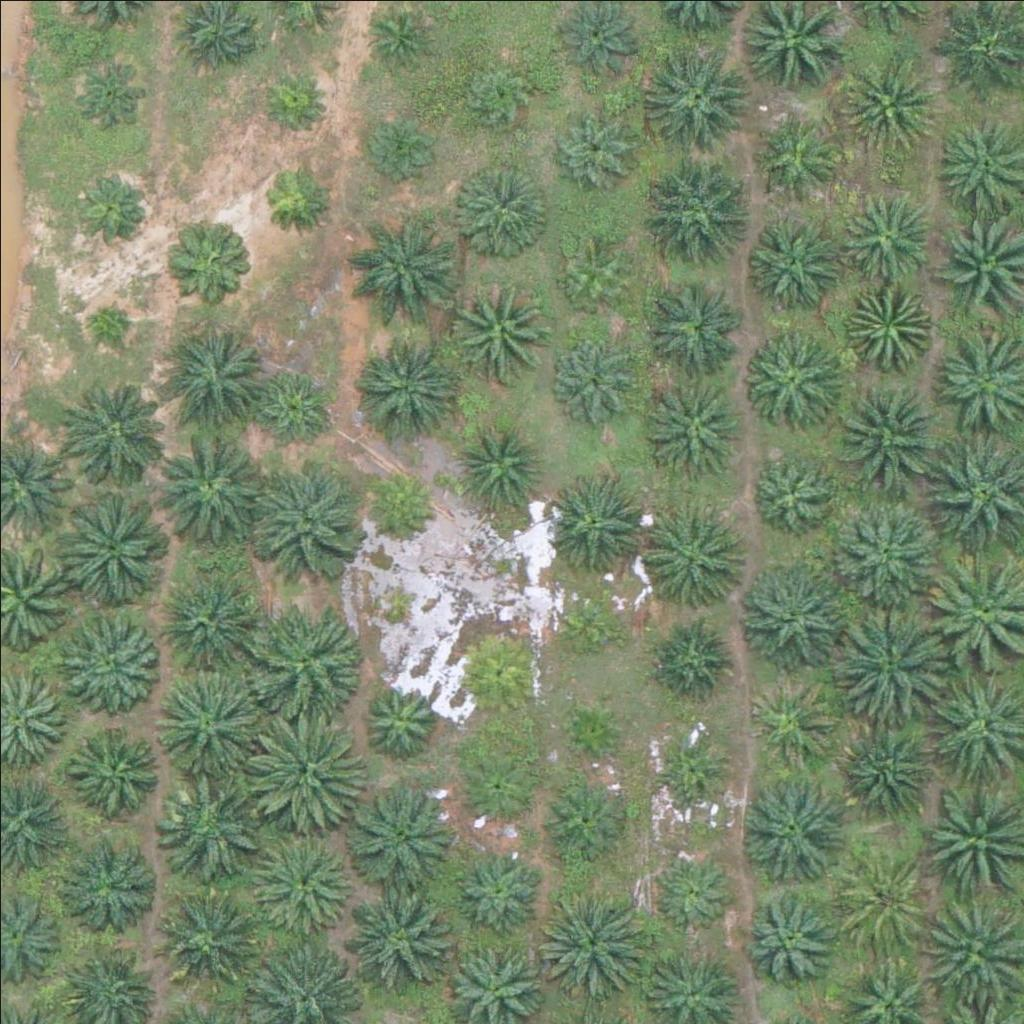Kelapa_Sawit: (59, 490, 172, 603), (62, 373, 175, 486), (244, 609, 357, 722), (247, 461, 360, 574), (154, 773, 267, 886), (537, 887, 650, 1000), (826, 497, 938, 611), (156, 430, 268, 544), (152, 671, 264, 785), (250, 719, 362, 833), (839, 604, 951, 717), (834, 383, 946, 496), (736, 563, 848, 676), (645, 152, 757, 265), (644, 38, 756, 151), (343, 212, 455, 325), (151, 321, 263, 434), (737, 773, 849, 886), (341, 874, 453, 987), (346, 781, 458, 894), (840, 53, 940, 154), (741, 209, 841, 310), (742, 333, 842, 434), (640, 369, 740, 470), (642, 278, 742, 379), (549, 471, 649, 572), (450, 278, 550, 379), (353, 339, 453, 440), (67, 719, 167, 820), (60, 611, 160, 712), (251, 831, 351, 932), (740, 886, 840, 987), (836, 716, 936, 816), (643, 508, 743, 608), (449, 160, 549, 260), (153, 574, 253, 674), (55, 842, 155, 942), (160, 883, 260, 983), (831, 850, 931, 950), (454, 629, 542, 718), (63, 48, 151, 137), (248, 360, 336, 448), (454, 743, 542, 831), (841, 196, 929, 284), (747, 121, 835, 209), (547, 106, 635, 194), (163, 223, 251, 311), (649, 845, 737, 933), (453, 846, 540, 935), (747, 680, 834, 768), (844, 288, 931, 376), (743, 446, 830, 534), (648, 616, 735, 704), (550, 339, 637, 427), (456, 419, 543, 507), (66, 167, 153, 255), (359, 675, 446, 763), (544, 773, 631, 861), (364, 470, 439, 546), (361, 108, 436, 184), (556, 693, 631, 769), (552, 585, 627, 661), (650, 723, 725, 798), (256, 159, 331, 234), (555, 238, 630, 313), (457, 54, 532, 129), (256, 63, 331, 138), (84, 290, 134, 340)
